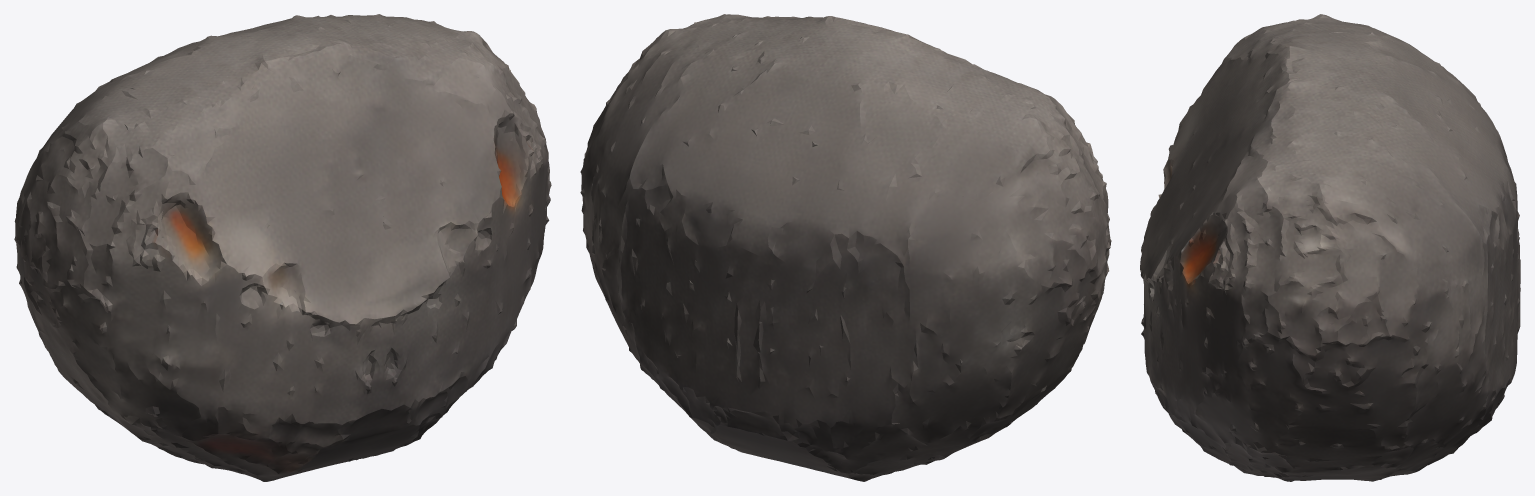
Rendered from meteorite_rocky.glb.
3 views of the same model, side by side, from view 1: azimuth 30°, elevation 25°; view 2: azimuth 150°, elevation 25°; view 3: azimuth 270°, elevation 25° (orthographic). The views are drawn at different scales.
Parts seen in each view (by area): view 1: meteorite_rocky; view 2: meteorite_rocky; view 3: meteorite_rocky.
Part boxes in pixels (left/top/right/bottom): meteorite_rocky: left=14, top=14, right=551, bottom=481; meteorite_rocky: left=580, top=14, right=1111, bottom=481; meteorite_rocky: left=1140, top=14, right=1520, bottom=481.
Bounding box in the file's own units: 1.89 × 1.51 × 1.32.
1 material, 1 textured.
